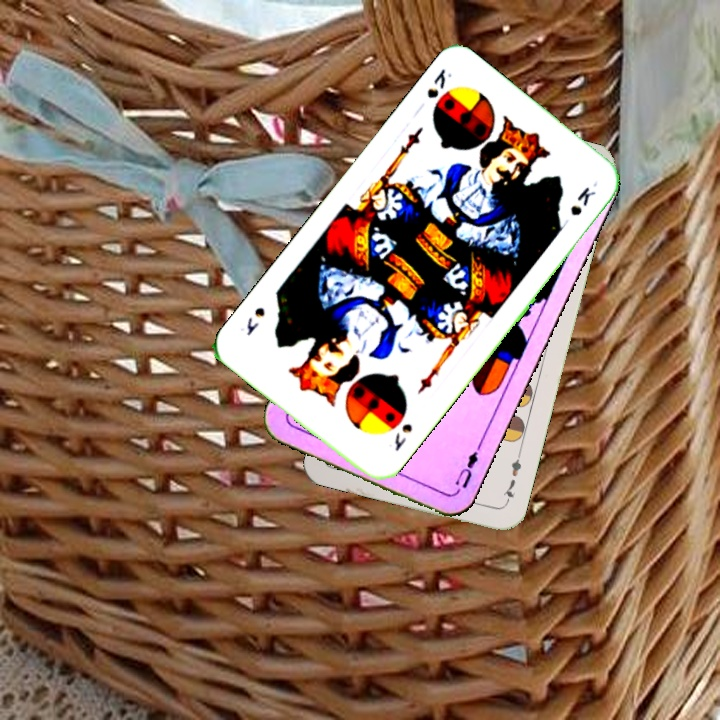E7: (498, 449, 524, 507)
EU: (451, 441, 484, 492)
SK: (422, 64, 455, 101), (390, 419, 415, 455)
